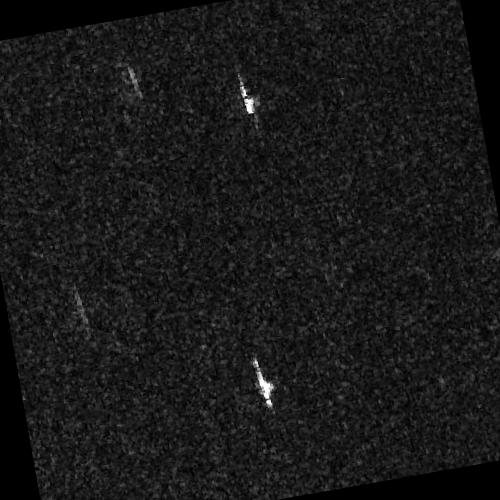ship: (251, 357, 274, 410), (237, 77, 255, 115)
